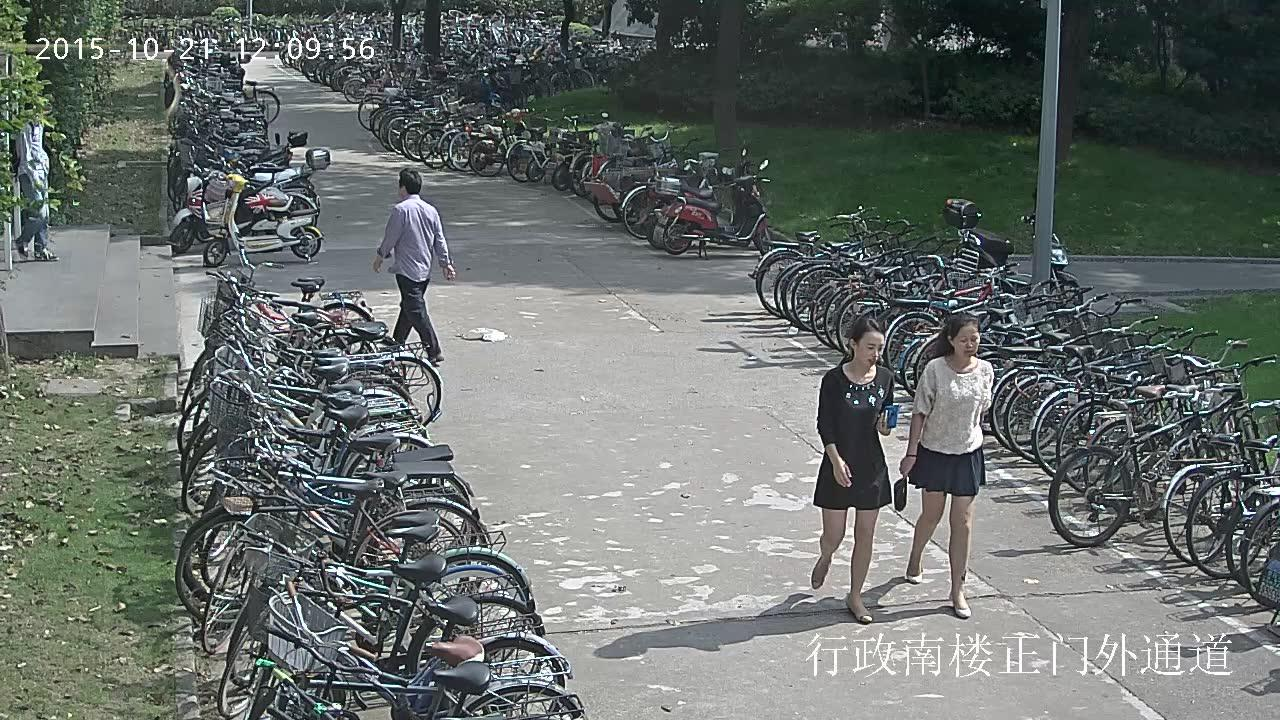person: (893, 310, 993, 619), (810, 318, 896, 623), (372, 168, 455, 364), (14, 103, 59, 261)
